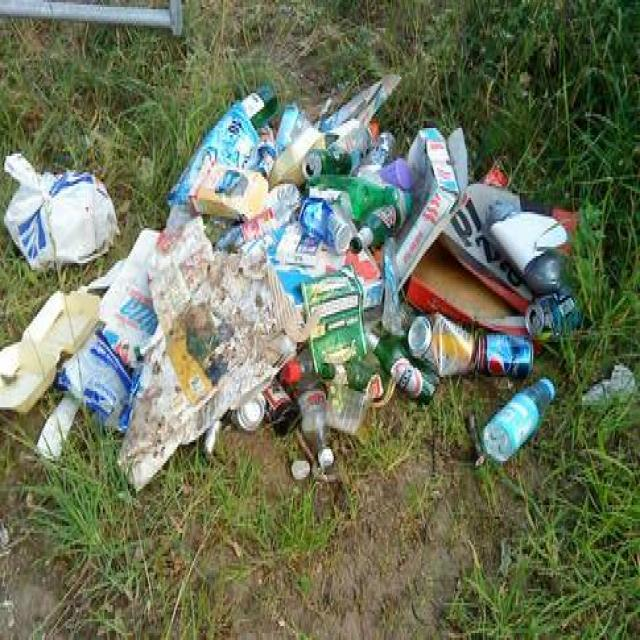trash: (0, 71, 584, 500)
